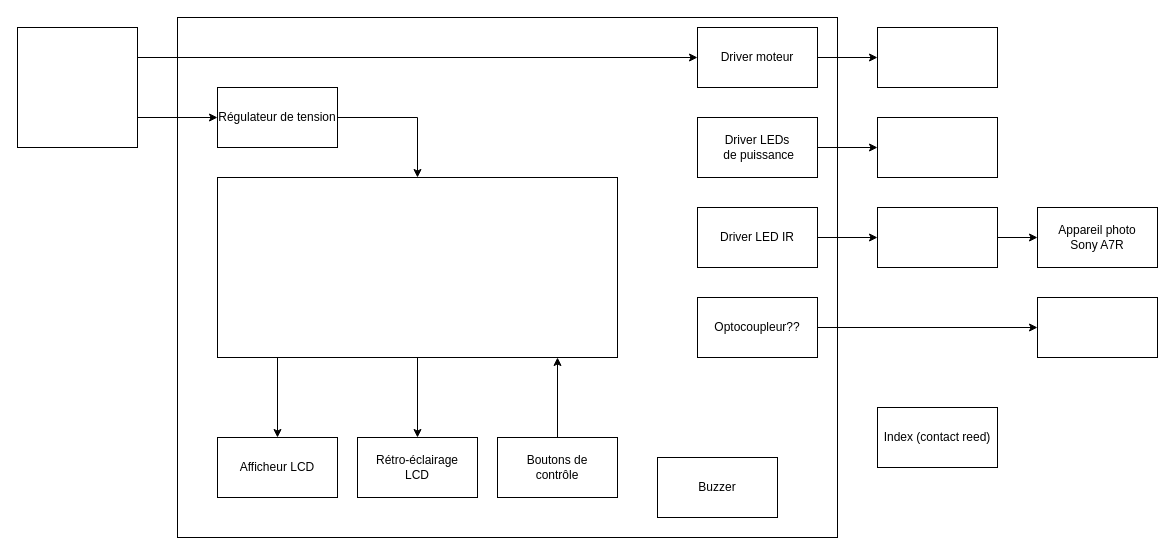
Some shapes in this 1175 by 555 pixel diagram are drawn without their labels. Here are the shapes that lost their labels. From the top down, the centre of each, then its label:
At (937,57): "Moteur de positionnement".
At (77,87): "Alimentation secteur".
At (937,147): "LEDs".
At (937,237): "LED IR".
At (417,267): "Microcontrôleur".
At (1097,327): "Appareil photo Nikon D750".
